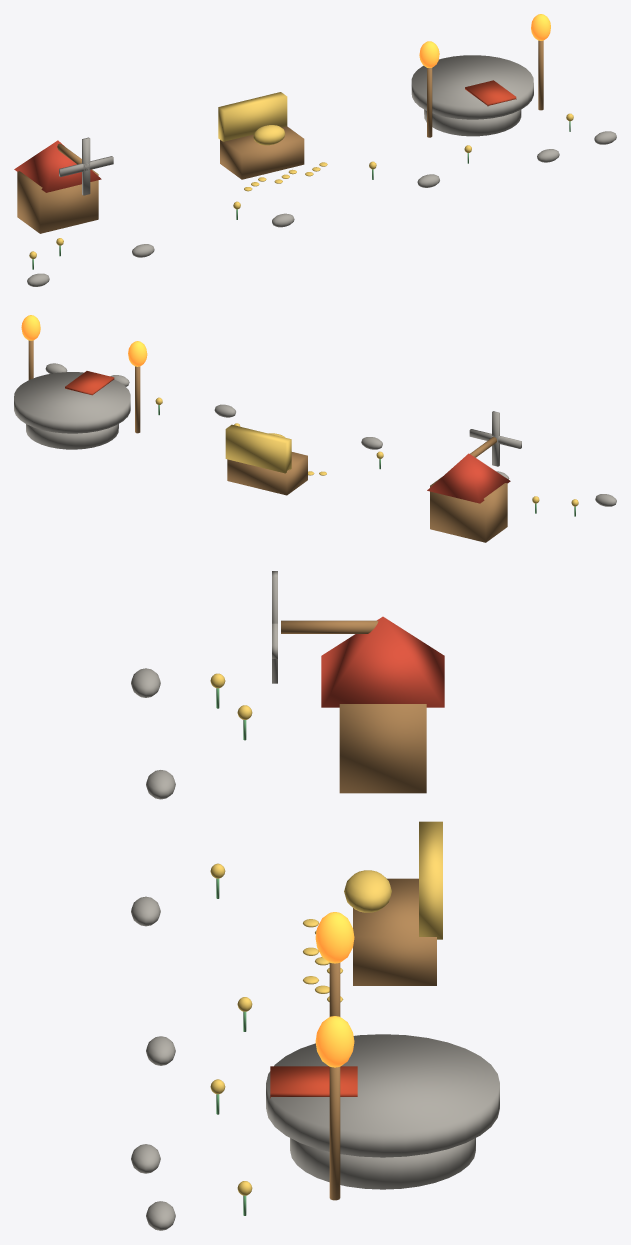
File: kurczoker-diorama-props.glb
The picture shows the model from 3 angles, top to bottom: view 1: azimuth 30°, elevation 25°; view 2: azimuth 150°, elevation 25°; view 3: azimuth 270°, elevation 25°; orthographic projection. The views are drawn at different scales.
Visible parts, largest first — view 1: boss_altar_top, windmill_house, open_chest_base, open_chest_lid, windmill_roof, boss_altar_base, boss_red_carpet, chest_light_core, windmill_blade_0, windmill_blade_1, torch_fire_2.08, torch_fire_3.72 (+2 smaller); view 2: boss_altar_top, windmill_house, open_chest_lid, windmill_roof, open_chest_base, boss_altar_base, boss_red_carpet, torch_fire_3.72, torch_fire_2.08, torch_pole_2.08, windmill_blade_1, windmill_blade_0; view 3: boss_altar_top, windmill_roof, windmill_house, open_chest_base, boss_altar_base, open_chest_lid, boss_red_carpet, chest_light_core, torch_pole_3.72, torch_fire_3.72, torch_fire_2.08, windmill_mast.
Boxes of the visible parts, left/top/right/bottom form: boss_altar_top: left=411, top=55, right=533, bottom=119; windmill_house: left=17, top=169, right=98, bottom=233; open_chest_base: left=220, top=126, right=304, bottom=179; open_chest_lid: left=218, top=92, right=287, bottom=141; windmill_roof: left=14, top=140, right=101, bottom=192; boss_altar_base: left=424, top=109, right=521, bottom=136; boss_red_carpet: left=465, top=80, right=516, bottom=106; chest_light_core: left=253, top=125, right=285, bottom=145; windmill_blade_0: left=82, top=137, right=90, bottom=195; windmill_blade_1: left=59, top=156, right=113, bottom=176; torch_fire_2.08: left=419, top=41, right=439, bottom=67; torch_fire_3.72: left=531, top=14, right=550, bottom=40; boss_altar_top: left=14, top=372, right=130, bottom=433; windmill_house: left=430, top=477, right=507, bottom=542; open_chest_lid: left=225, top=424, right=291, bottom=473; windmill_roof: left=427, top=453, right=510, bottom=503; open_chest_base: left=227, top=452, right=307, bottom=495; boss_altar_base: left=26, top=424, right=118, bottom=449; boss_red_carpet: left=65, top=371, right=114, bottom=395; torch_fire_3.72: left=21, top=315, right=40, bottom=340; torch_fire_2.08: left=128, top=341, right=147, bottom=366; torch_pole_2.08: left=135, top=366, right=140, bottom=433; windmill_blade_1: left=469, top=429, right=521, bottom=448; windmill_blade_0: left=492, top=411, right=499, bottom=466; boss_altar_top: left=266, top=1034, right=499, bottom=1157; windmill_roof: left=321, top=616, right=444, bottom=707; windmill_house: left=339, top=704, right=426, bottom=793; open_chest_base: left=353, top=878, right=436, bottom=985; boss_altar_base: left=290, top=1138, right=475, bottom=1189; open_chest_lid: left=419, top=821, right=442, bottom=939; boss_red_carpet: left=270, top=1066, right=357, bottom=1098; chest_light_core: left=344, top=870, right=391, bottom=912; torch_pole_3.72: left=329, top=1067, right=340, bottom=1200; torch_fire_3.72: left=315, top=1016, right=354, bottom=1067; torch_fire_2.08: left=315, top=912, right=354, bottom=963; windmill_mast: left=281, top=620, right=378, bottom=633.
Bounding box in the file's own units: 8.72 × 1.45 × 2.46.
